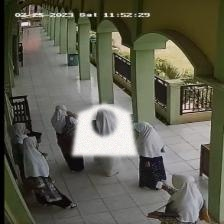Mukena: (72, 102, 136, 156)
